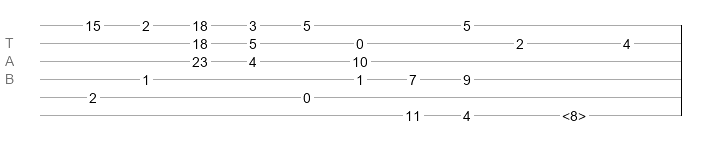0: (303, 90, 311, 100), (356, 36, 364, 46)
1: (142, 72, 150, 82), (356, 72, 364, 82)
10: (352, 54, 368, 64)
11: (405, 108, 421, 118)
15: (85, 18, 101, 28)
18: (192, 18, 208, 28), (192, 36, 208, 46)
2: (89, 90, 97, 100), (142, 18, 150, 28), (516, 36, 524, 46)
23: (192, 54, 208, 64)
3: (249, 18, 257, 28)
4: (249, 54, 257, 64), (463, 108, 471, 118), (623, 36, 631, 46)
5: (249, 36, 257, 46), (303, 18, 311, 28), (463, 18, 471, 28)
7: (409, 72, 417, 82)
9: (463, 72, 471, 82)
harmonic: (562, 108, 586, 118)
